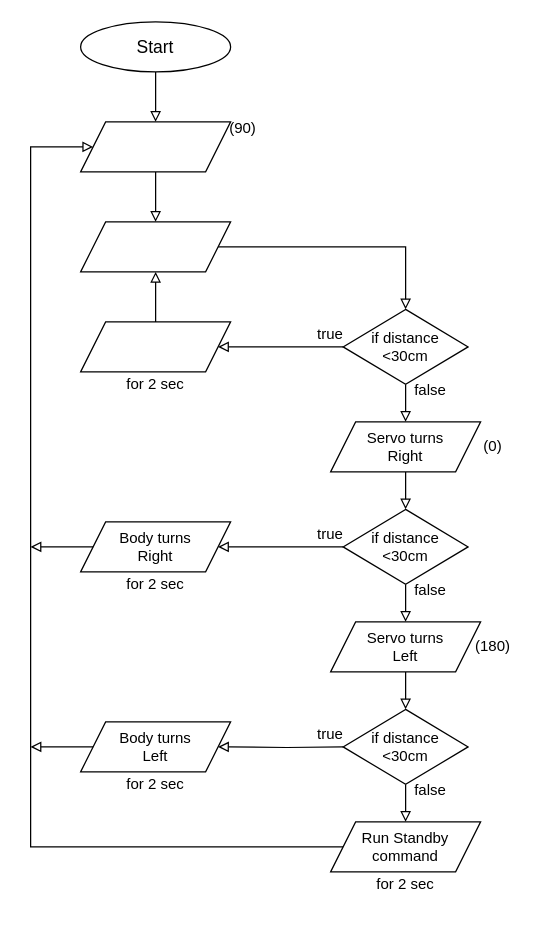
The diagram is 553 pixels wide and 925 high, and some of its shapes have lost their labels. The shapes that lost their labels are listed below. From the top down, each one's centre as x and y in pixels, then its label:
the point at 155,146: Servo turns Forward
the point at 155,246: Read Sensor
the point at 155,346: Run Forward
